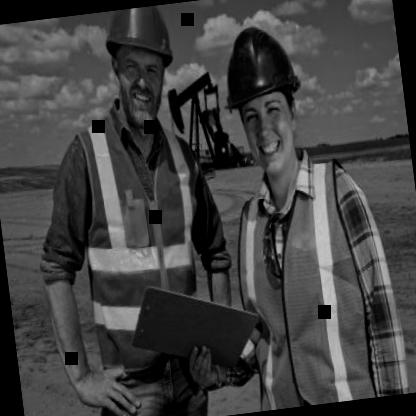helmet: (211, 0, 319, 201), (93, 3, 190, 141)
